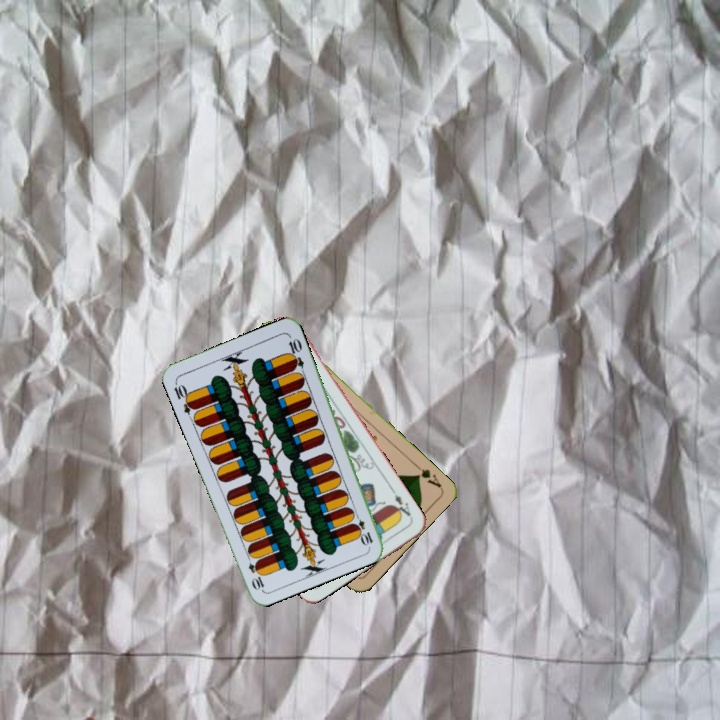E10: (170, 378, 198, 417), (350, 508, 375, 548)
EA: (388, 485, 413, 520)
GA: (410, 459, 444, 491)
